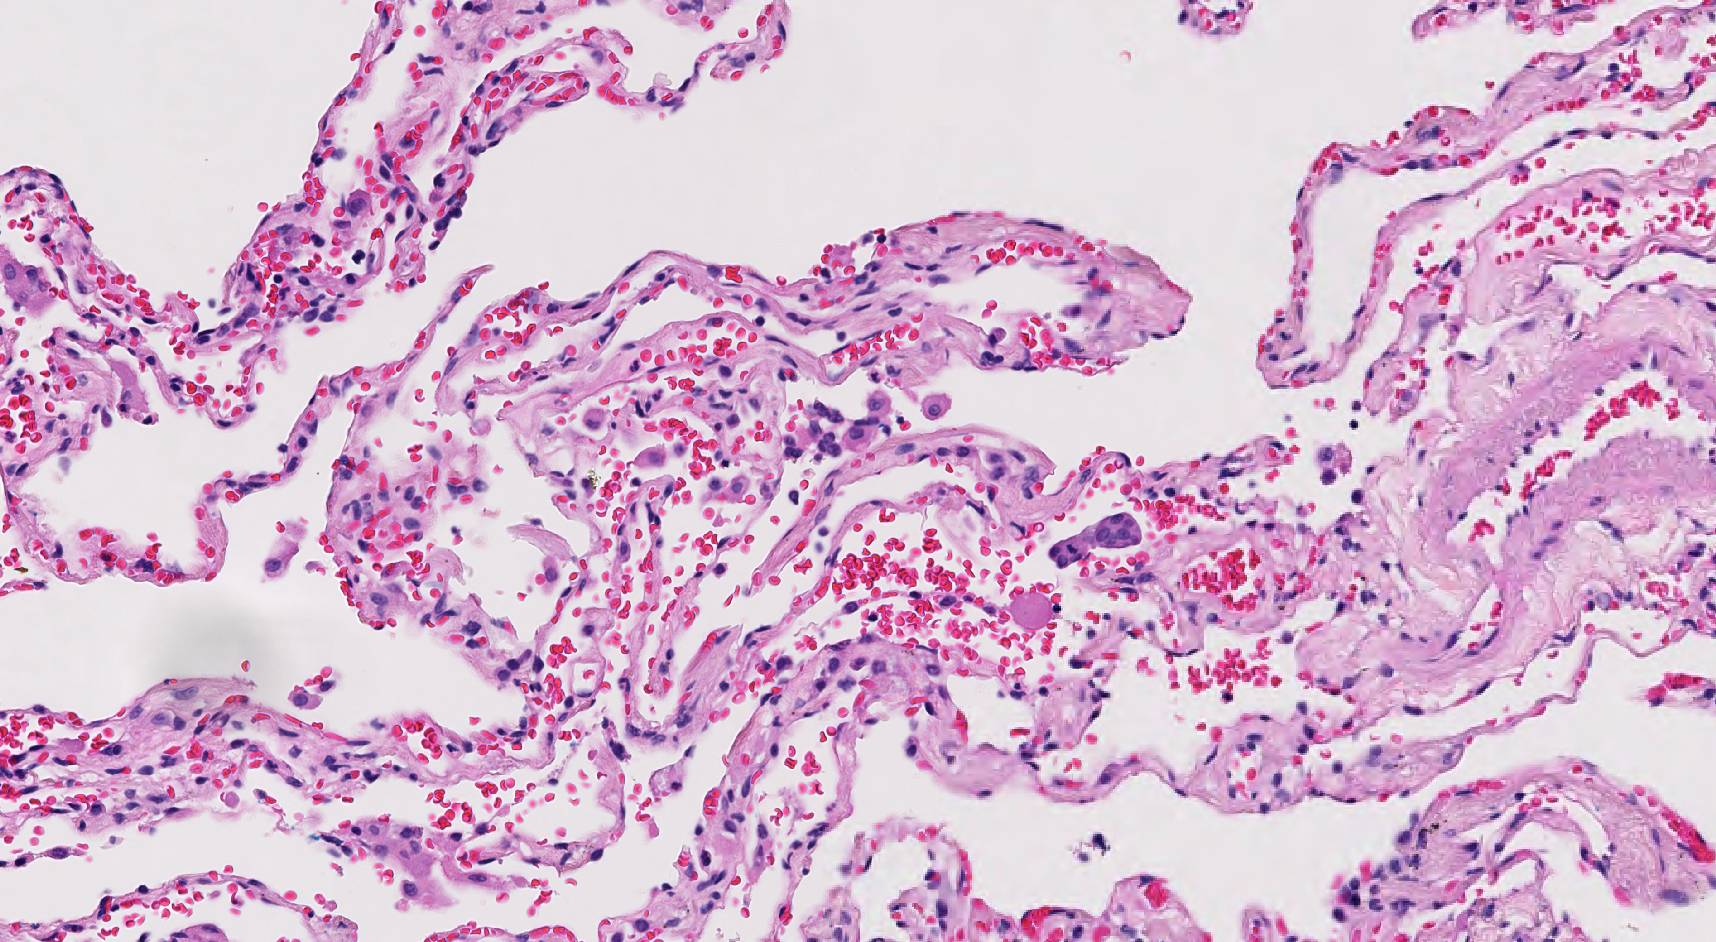stas: (1045, 513, 1147, 568), (777, 399, 841, 466)
